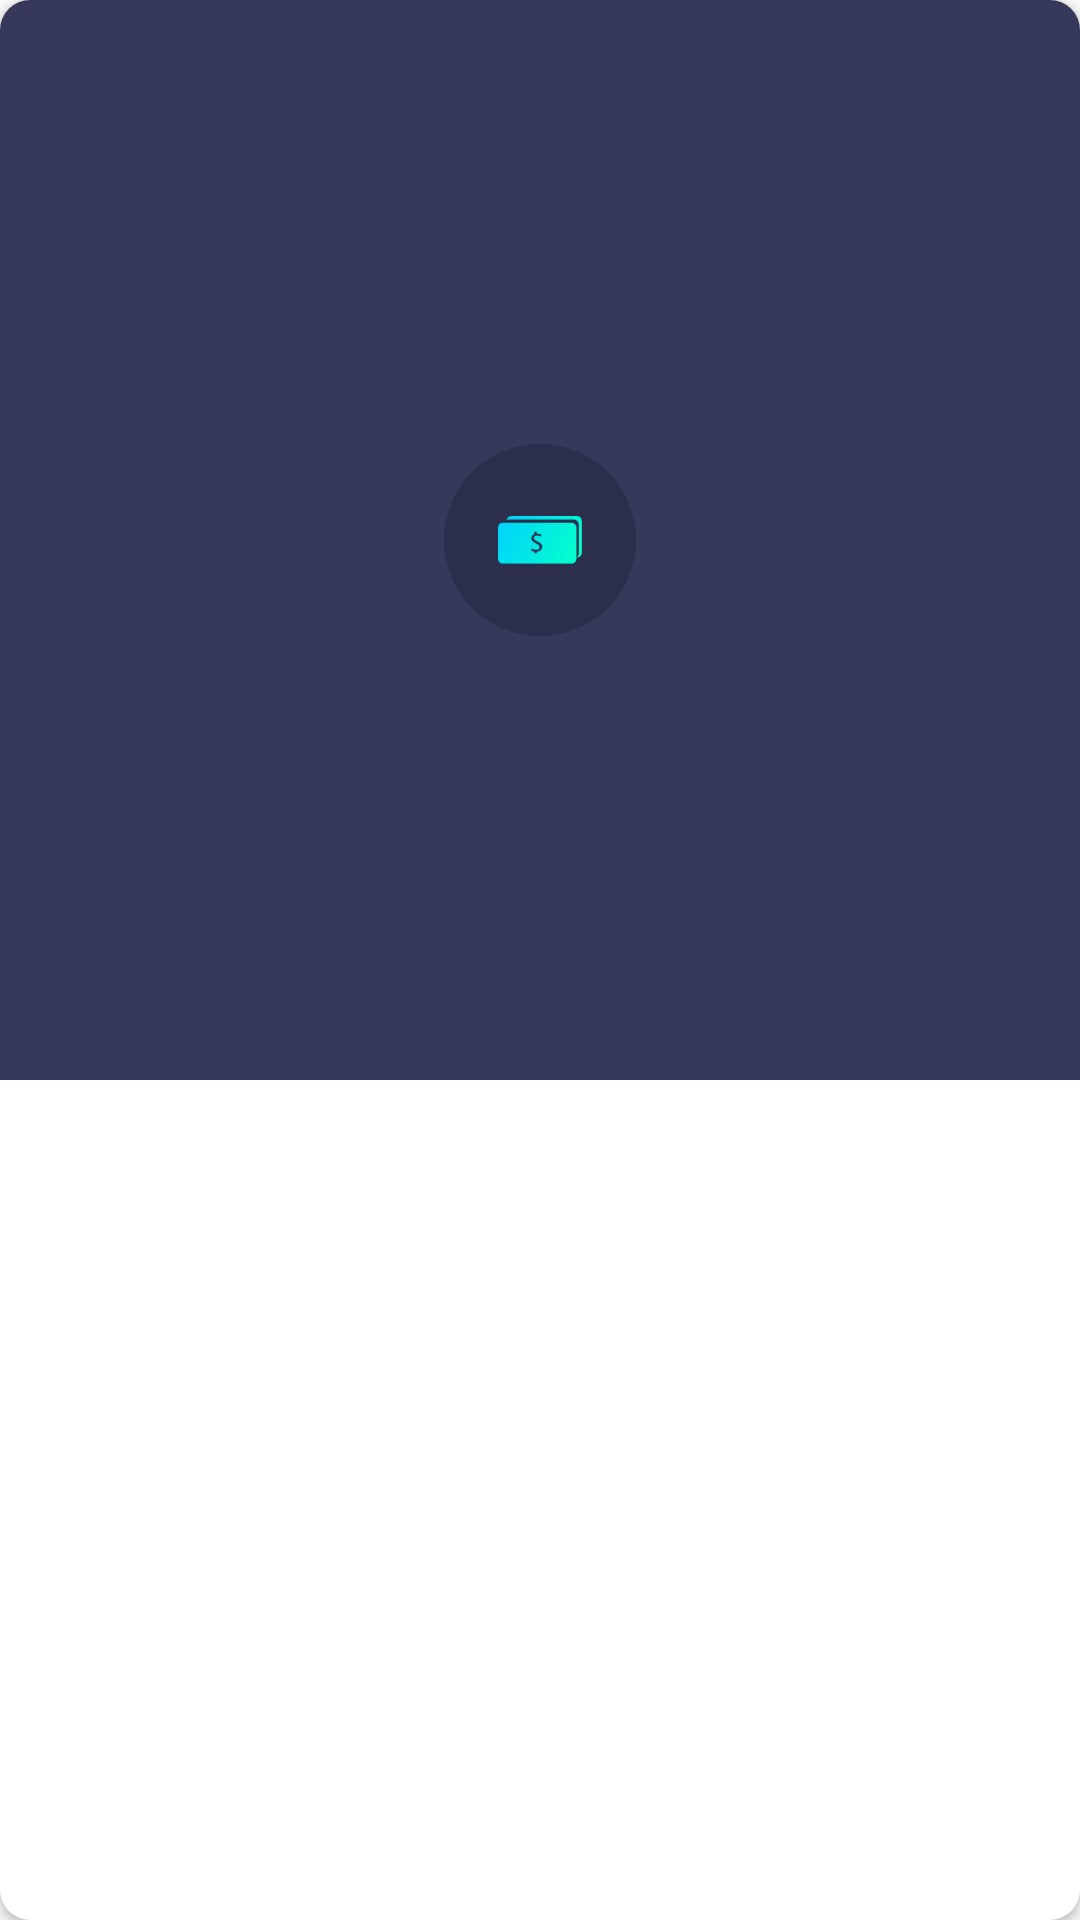

Where icons sit on this 1080 × 1920 app screen, as {"x1": x1, "y1": y1, "x2": x2, "y2": y2}:
salary: {"x1": 498, "y1": 516, "x2": 582, "y2": 564}
